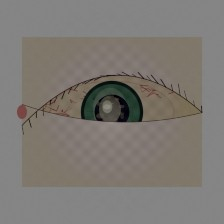corneal_ulcer: (88, 91, 132, 127)
